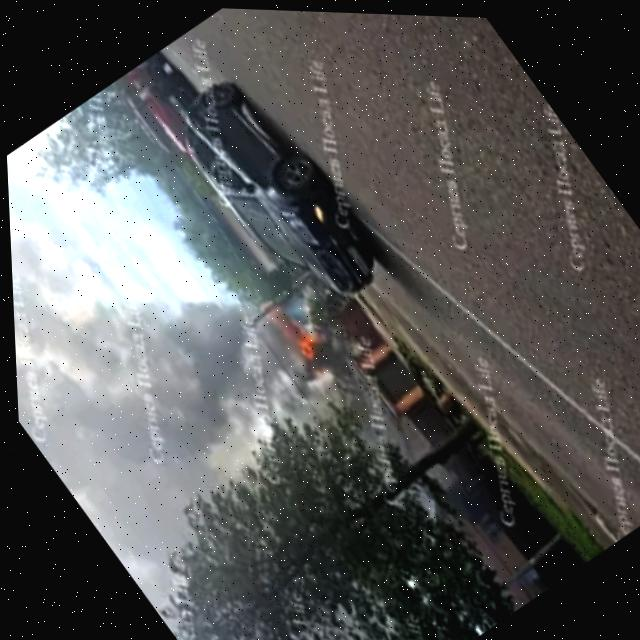Smoke: (8, 222, 340, 552)
